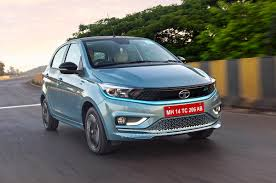Tiago: (37, 32, 224, 159)
